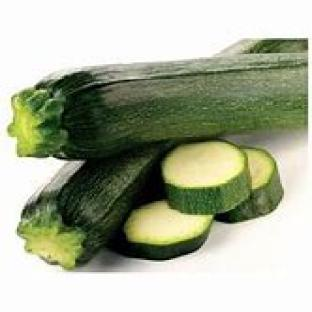Zucchini: (10, 53, 308, 159), (17, 148, 163, 268), (162, 141, 249, 214), (113, 202, 212, 259), (217, 148, 283, 223), (217, 39, 308, 55)
